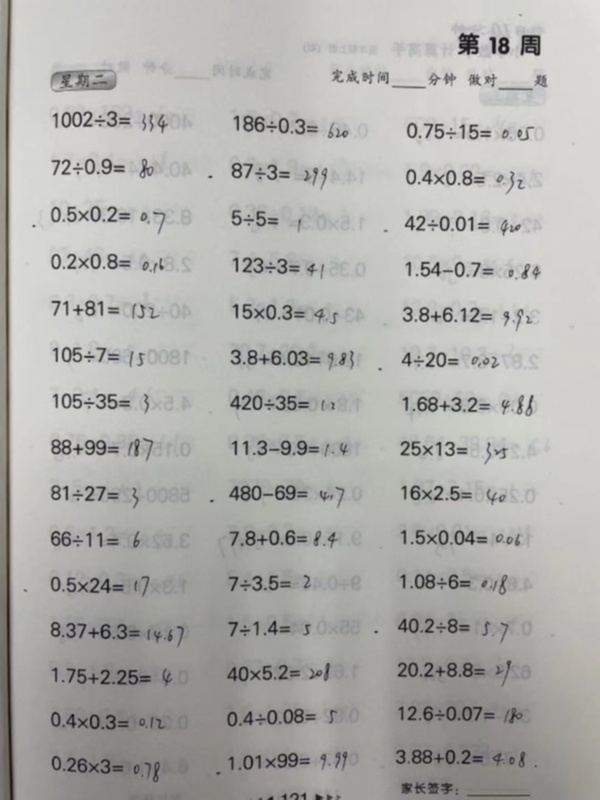equation: (45, 618, 186, 648), (397, 302, 534, 332), (46, 749, 163, 784), (396, 432, 513, 467), (393, 656, 515, 689), (398, 391, 536, 420), (401, 257, 543, 284), (45, 200, 168, 231), (401, 165, 527, 195), (211, 748, 350, 775), (226, 345, 356, 373), (224, 479, 347, 508), (391, 744, 539, 768), (48, 663, 175, 690), (393, 613, 511, 642), (48, 105, 170, 133), (47, 434, 157, 464), (47, 154, 155, 184), (401, 119, 536, 143), (228, 112, 352, 138), (395, 569, 510, 597), (45, 708, 168, 734), (393, 701, 525, 725), (46, 571, 153, 600), (400, 211, 523, 236), (226, 160, 330, 189), (46, 248, 166, 273), (221, 703, 339, 728), (223, 524, 340, 549), (396, 525, 522, 548), (222, 207, 309, 240), (226, 435, 350, 458), (227, 299, 340, 324), (49, 389, 152, 416), (47, 296, 162, 320), (46, 481, 141, 510), (223, 659, 333, 684), (396, 481, 508, 504), (225, 390, 337, 413), (48, 342, 147, 368), (45, 527, 140, 554), (221, 612, 316, 639), (228, 253, 327, 278), (397, 347, 501, 370), (225, 571, 314, 594)
